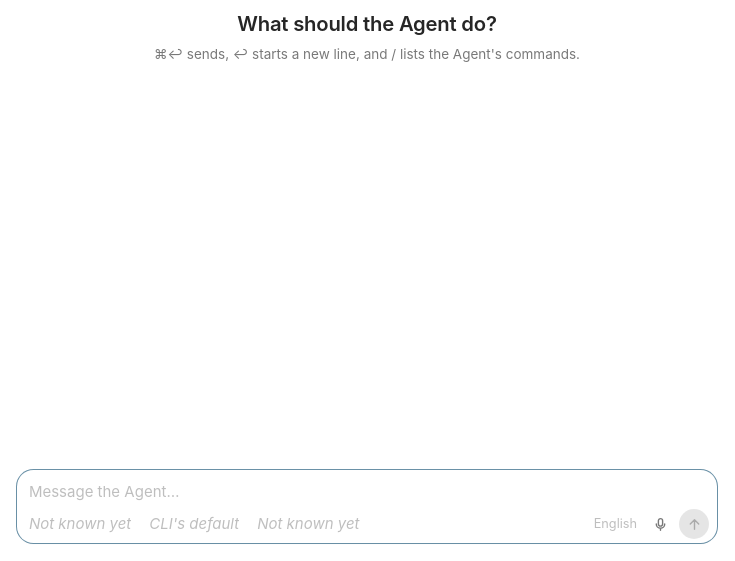
dictating in the composer › takes a press on the microphone or the waveform for neither a press on the field nor a stop
This screenshot has width=735, height=561.
Type "これを今" into the text box named "Message to the Agent".
click(369, 491); type("これを今")  # box [29,478,709,505]
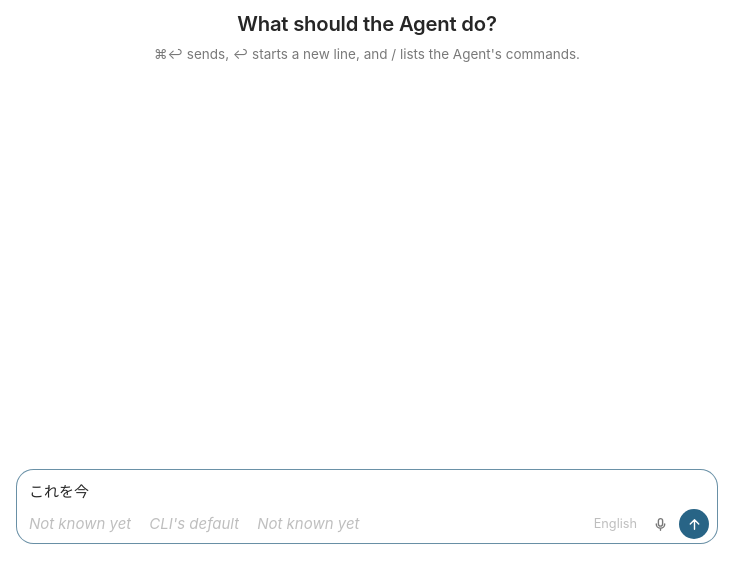
Press the mouse on the button named "Dictate" at (660, 524), box [645,509,675,539]
Click the button named "Dictate".
click(660, 524)  # box [645,509,675,539]
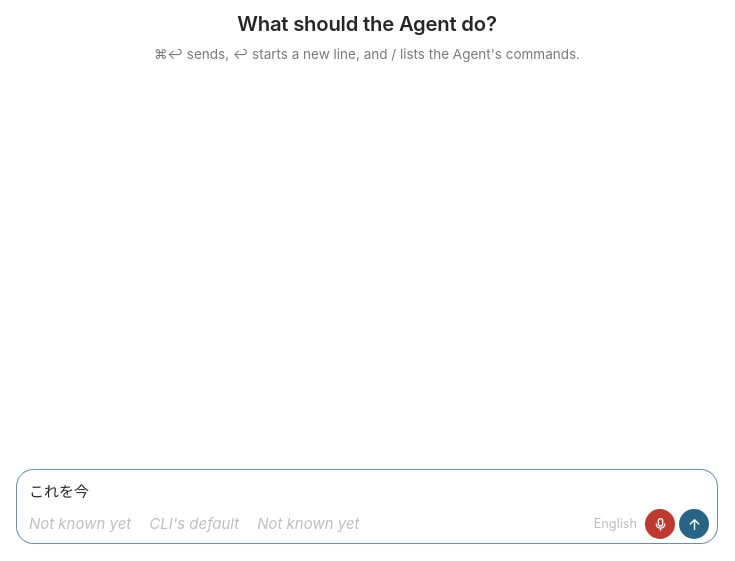
expect the button named "Stop dictating" is shown: met, box [645,509,675,539]
Press the mouse on the element showing "Not known yet CLI's default Not known yet English" at (367, 506), box [17,470,717,543]
expect the button named "Stop dictating" has attribute data-phase="recording": met
Click the button named "Stop dictating".
click(660, 524)  # box [645,509,675,539]
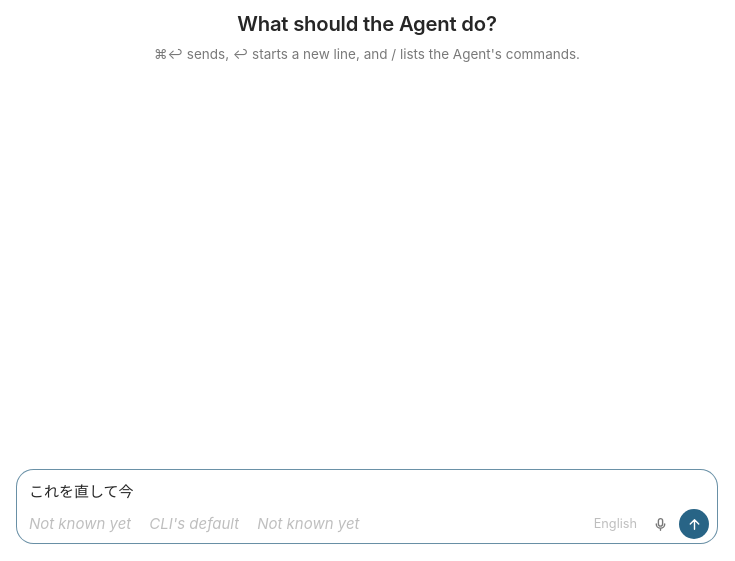
expect the text box named "Message to the Agent" holds "これを直して今": met, box [29,478,709,505]
